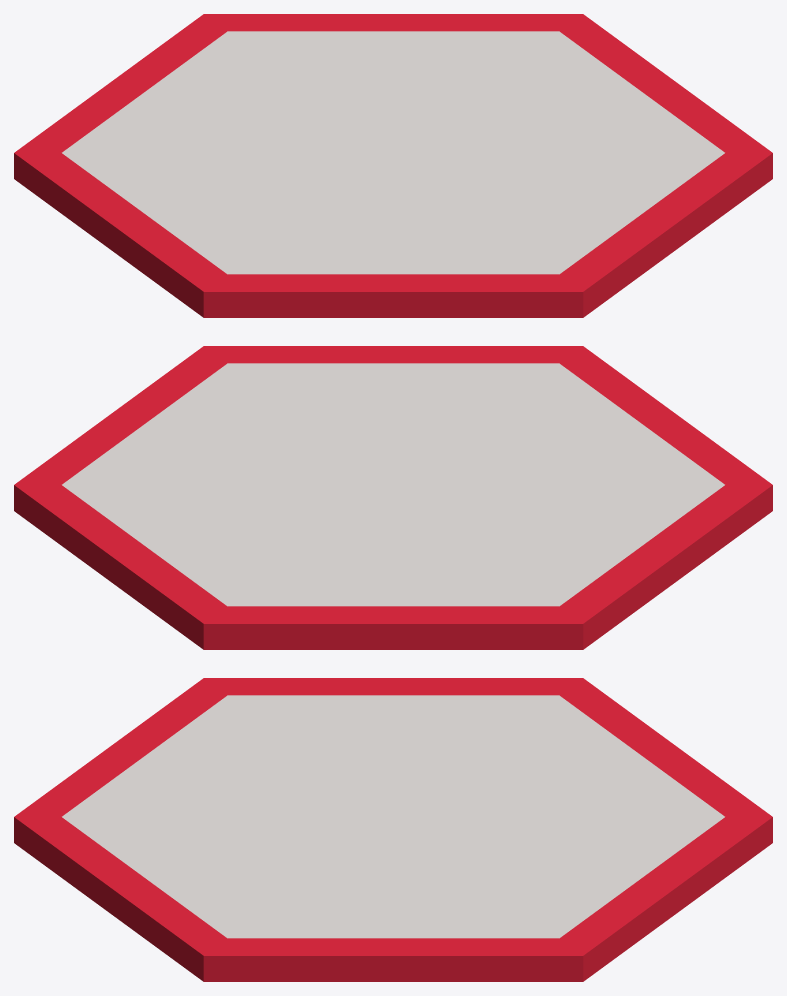
The model's file is Sign.fbx.
3 renders of one model, top to bottom at view 1: azimuth 30°, elevation 25°; view 2: azimuth 150°, elevation 25°; view 3: azimuth 270°, elevation 25°, orthographic.
Visible parts, largest first — view 1: Cylinder; view 2: Cylinder; view 3: Cylinder.
Boxes of the visible parts, x1,y1,x2,y2 form: Cylinder: (14,14,772,317); Cylinder: (14,346,772,649); Cylinder: (14,678,772,981).
Bounding box in the file's own units: 33.94 × 39.19 × 1.49.
